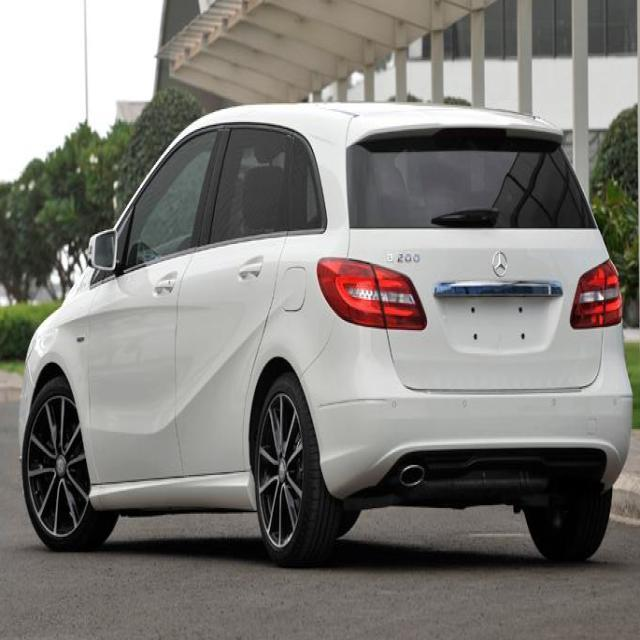car_back: (21, 95, 636, 550)
